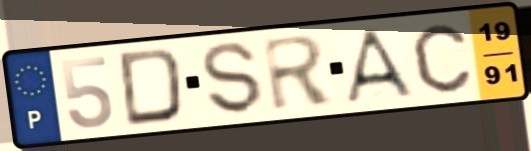5: (57, 53, 116, 130)
A: (342, 26, 419, 107)
C: (409, 21, 474, 96)
D: (116, 45, 186, 129)
R: (259, 32, 339, 114)
S: (199, 41, 267, 117)
